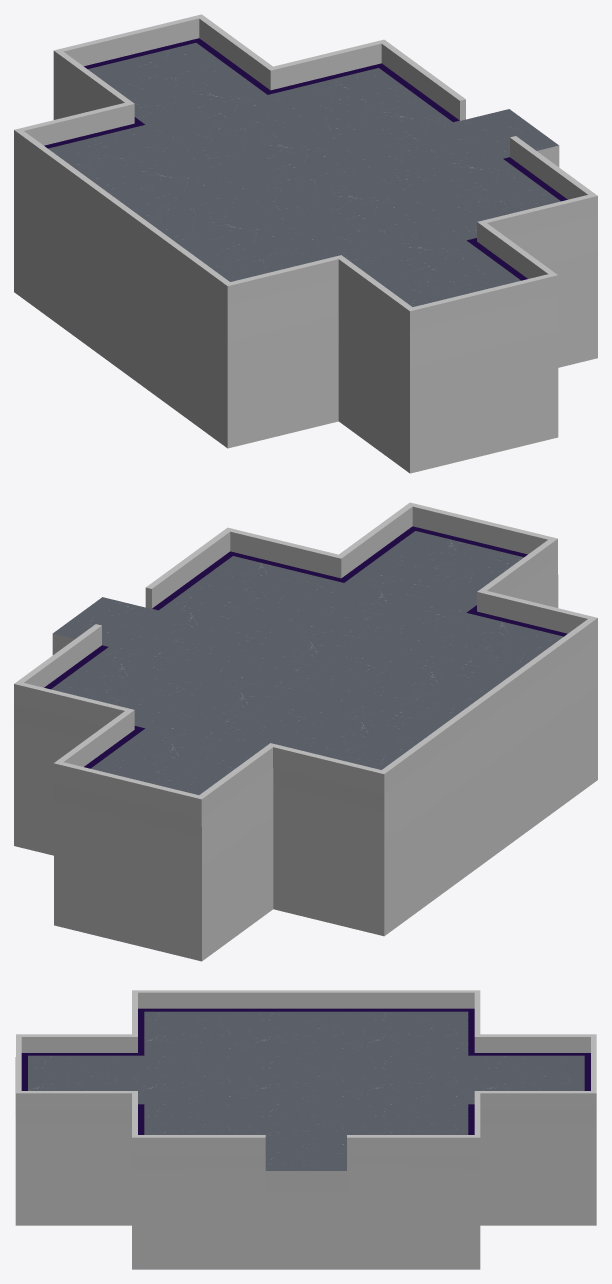
The model's file is Duel_A1_Stage_BigStriker.fbx.
3 renders of one model, top to bottom at view 1: azimuth 30°, elevation 25°; view 2: azimuth 150°, elevation 25°; view 3: azimuth 270°, elevation 25°, orthographic. The views are drawn at different scales.
Visible parts, largest first — view 1: Platform_Cube__1_.013, Platform_Cube__1_.012, Platform_Cube__1_.014; view 2: Platform_Cube__1_.013, Platform_Cube__1_.012, Platform_Cube__1_.014; view 3: Platform_Cube__1_.013, Platform_Cube__1_.012, Platform_Cube__1_.014.
Boxes of the visible parts, x1,y1,x2,y2 form: Platform_Cube__1_.013: (14,43,597,473); Platform_Cube__1_.012: (14,14,597,331); Platform_Cube__1_.014: (44,38,567,280); Platform_Cube__1_.013: (14,531,597,961); Platform_Cube__1_.012: (14,502,597,819); Platform_Cube__1_.014: (44,526,567,768); Platform_Cube__1_.013: (15,1011,596,1269); Platform_Cube__1_.012: (16,990,596,1153); Platform_Cube__1_.014: (21,1008,590,1134).
Size of the model in its own units: 3350 by 1256 by 5027.
